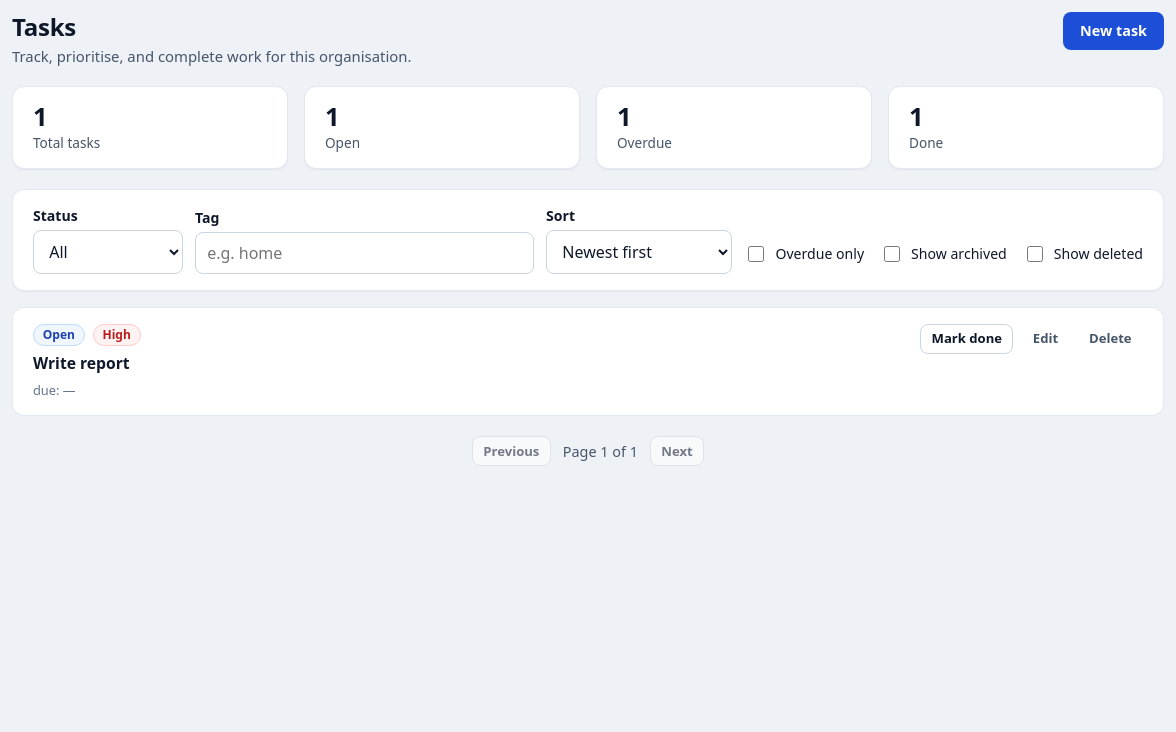
Test: optimistic toggle rollback › rolls back UI state and shows an error after a 412 conflict
Expected: the text "Write report" is shown, [33,352,130,374]
Note: wait until the row's ETag has been loaded (per-row GET completed)
Click the button with aria-label "Mark done: Write report".
click(967, 338)  # box [920,324,1013,354]
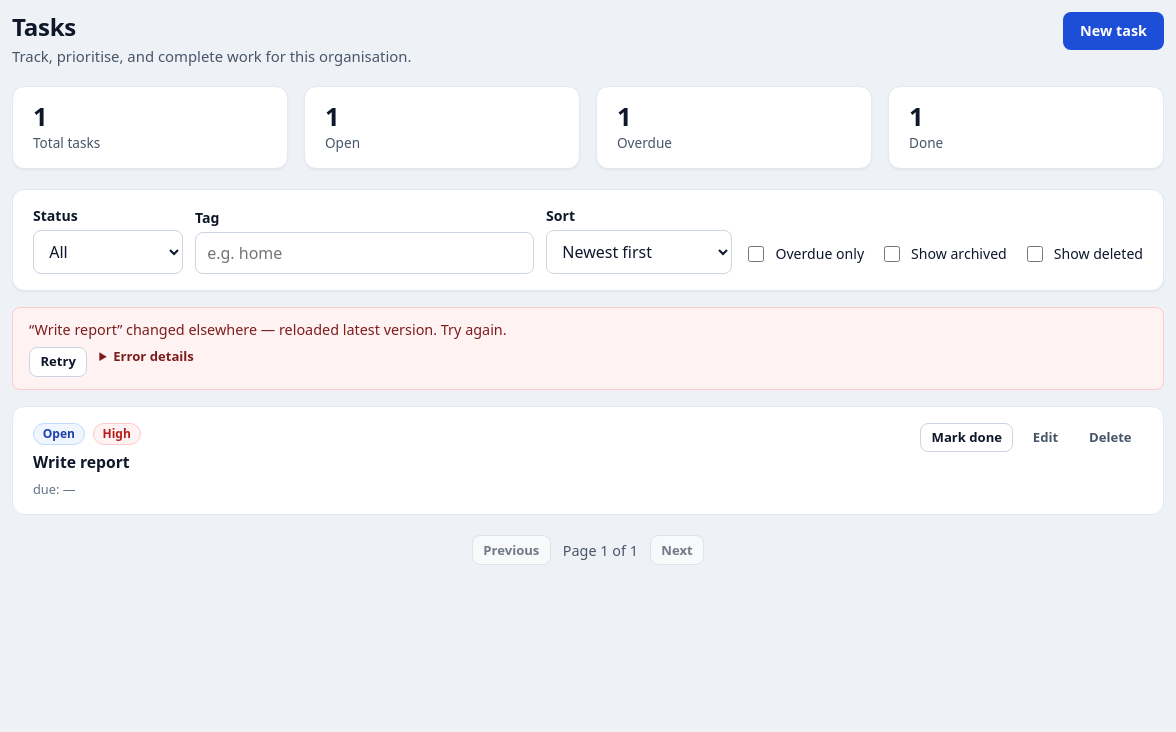
Expected: the button with aria-label "Mark done: Write report" is enabled, [920,422,1013,452]
Now the message shows "changed elsewhere", box [29,320,507,338]
